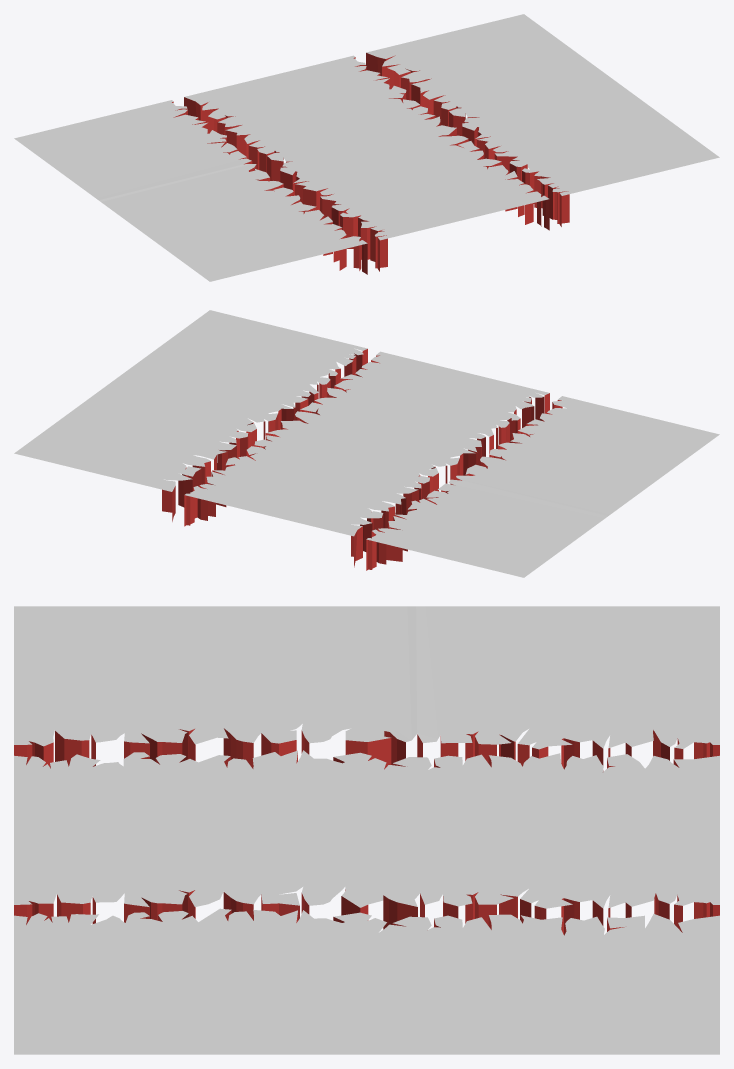
File: glacier 1.fbx
3 views of the same model, one above another, from view 1: azimuth 30°, elevation 25°; view 2: azimuth 150°, elevation 25°; view 3: azimuth 270°, elevation 25° (orthographic). The views are drawn at different scales.
Visible parts, largest first — view 1: Plane.008, Plane.009, Plane.010; view 2: Plane.008, Plane.009, Plane.010; view 3: Plane.008, Plane.010, Plane.009.
Part boxes in pixels (box(x1,y1,x2,y2)): Plane.008: box(184, 55, 549, 271); Plane.009: box(366, 14, 719, 226); Plane.010: box(14, 100, 367, 281); Plane.008: box(184, 351, 549, 567); Plane.009: box(14, 310, 367, 521); Plane.010: box(366, 396, 719, 577); Plane.008: box(14, 750, 719, 935); Plane.010: box(14, 606, 719, 771); Plane.009: box(14, 908, 719, 1054).
Size of the model in its own units: 8414 by 505 by 5600.
